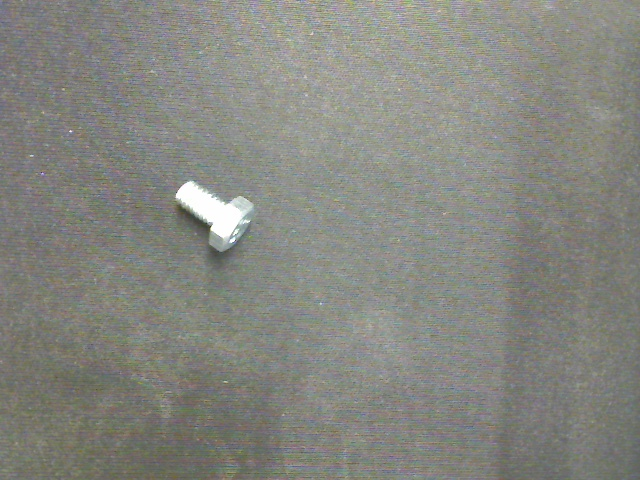screw8: (173, 180, 254, 253)
